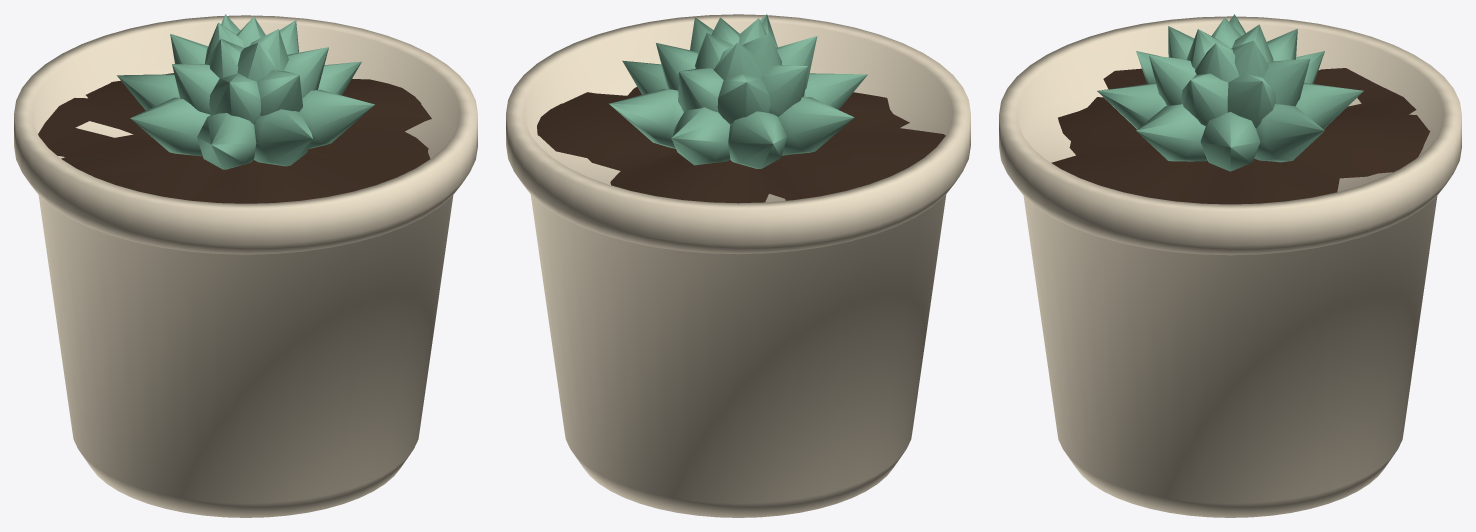
The model's file is living-succulent.glb.
3 views of the same model, side by side, from view 1: azimuth 30°, elevation 25°; view 2: azimuth 150°, elevation 25°; view 3: azimuth 270°, elevation 25° (orthographic).
Visible parts, largest first — view 1: Succulent__Pot, Succulent__Rosette, Succulent__Soil; view 2: Succulent__Pot, Succulent__Rosette, Succulent__Soil; view 3: Succulent__Pot, Succulent__Rosette, Succulent__Soil.
Part boxes in pixels (x1,y1,x2,y2): Succulent__Pot: [14, 15, 477, 517]; Succulent__Rosette: [117, 14, 374, 169]; Succulent__Soil: [38, 73, 431, 203]; Succulent__Pot: [506, 14, 970, 517]; Succulent__Rosette: [609, 14, 867, 168]; Succulent__Soil: [537, 87, 945, 203]; Succulent__Pot: [999, 16, 1461, 517]; Succulent__Rosette: [1097, 14, 1363, 171]; Succulent__Soil: [1051, 68, 1430, 204].
Bounding box in the file's own units: 12.48 × 12.48 × 12.48.
